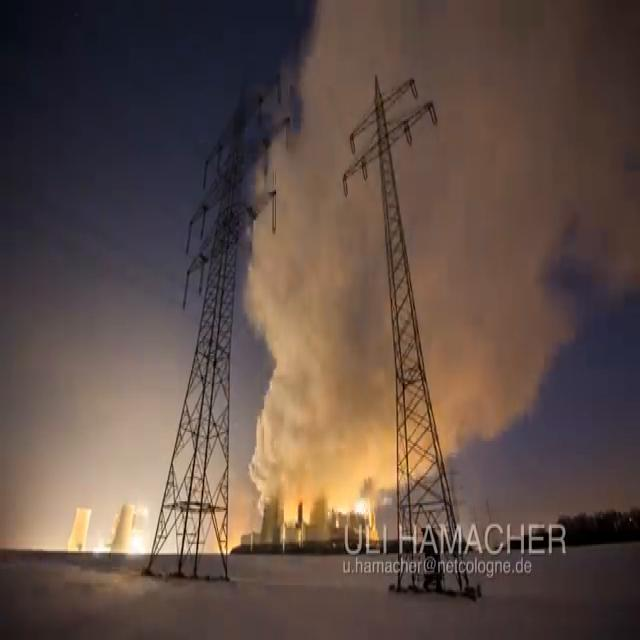smoke: (250, 0, 640, 500)
